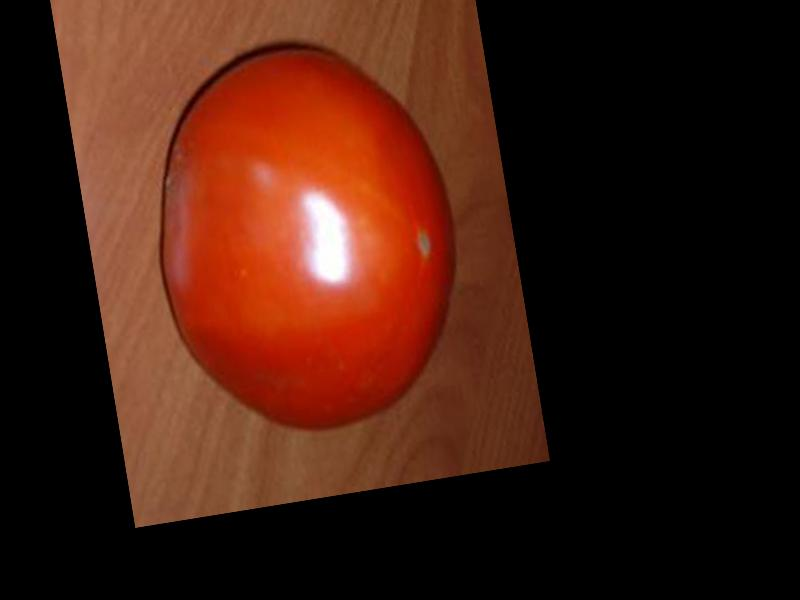Tomato: (131, 20, 484, 454)
